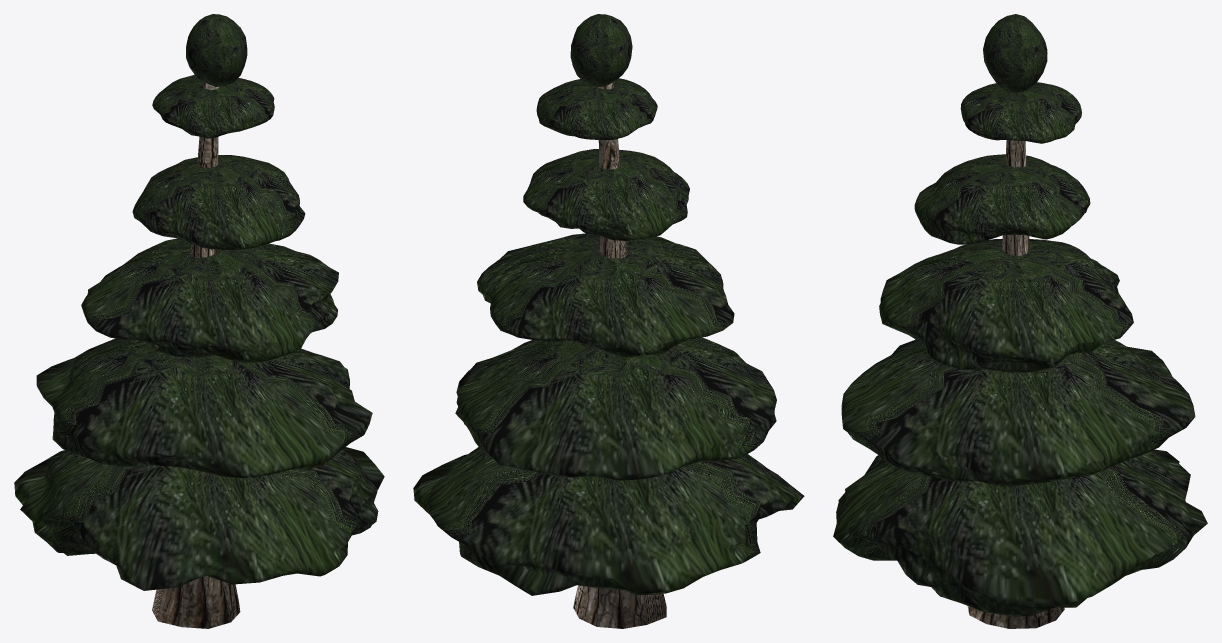
Rendered from tree_pine_hd.glb.
The picture shows the model from 3 angles, left to right: view 1: azimuth 30°, elevation 25°; view 2: azimuth 150°, elevation 25°; view 3: azimuth 270°, elevation 25°; orthographic projection. The views are drawn at different scales.
Visible parts, largest first — view 1: PineHD; view 2: PineHD; view 3: PineHD.
Part boxes in pixels (bbox=[...]): PineHD: bbox=[14, 14, 384, 628]; PineHD: bbox=[413, 14, 804, 628]; PineHD: bbox=[833, 14, 1207, 628].
Size of the model in its own units: 6.27 by 10.78 by 6.09.
Materials: 1 (1 with a texture image).
